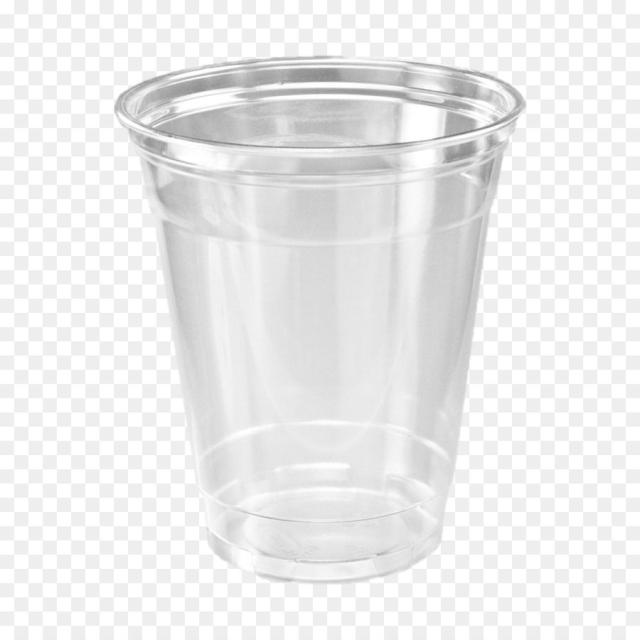plastic cup: (115, 56, 526, 585)
